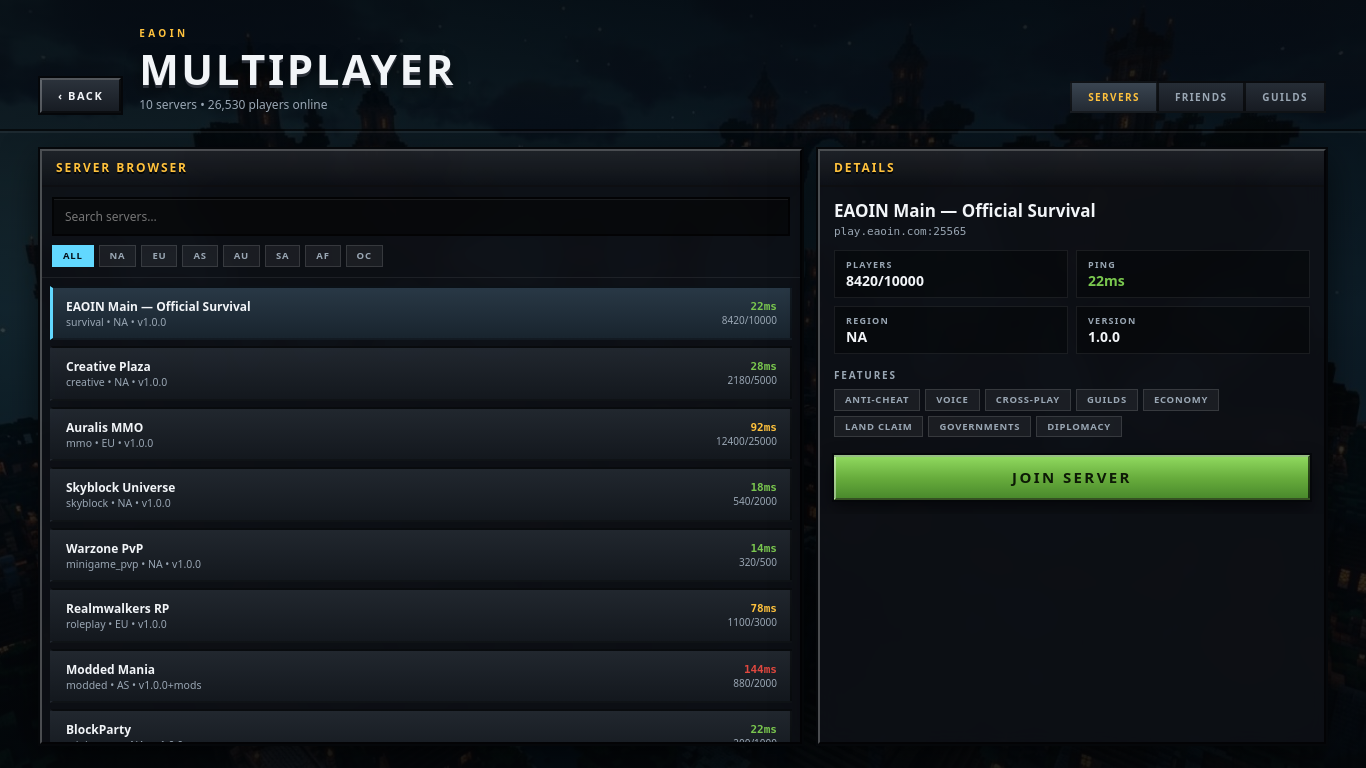
MultiplayerScreen › filters servers by search text
In the field with class "ui-input": (421, 216) [52, 197, 790, 236], type "zzzz-no-such-server"
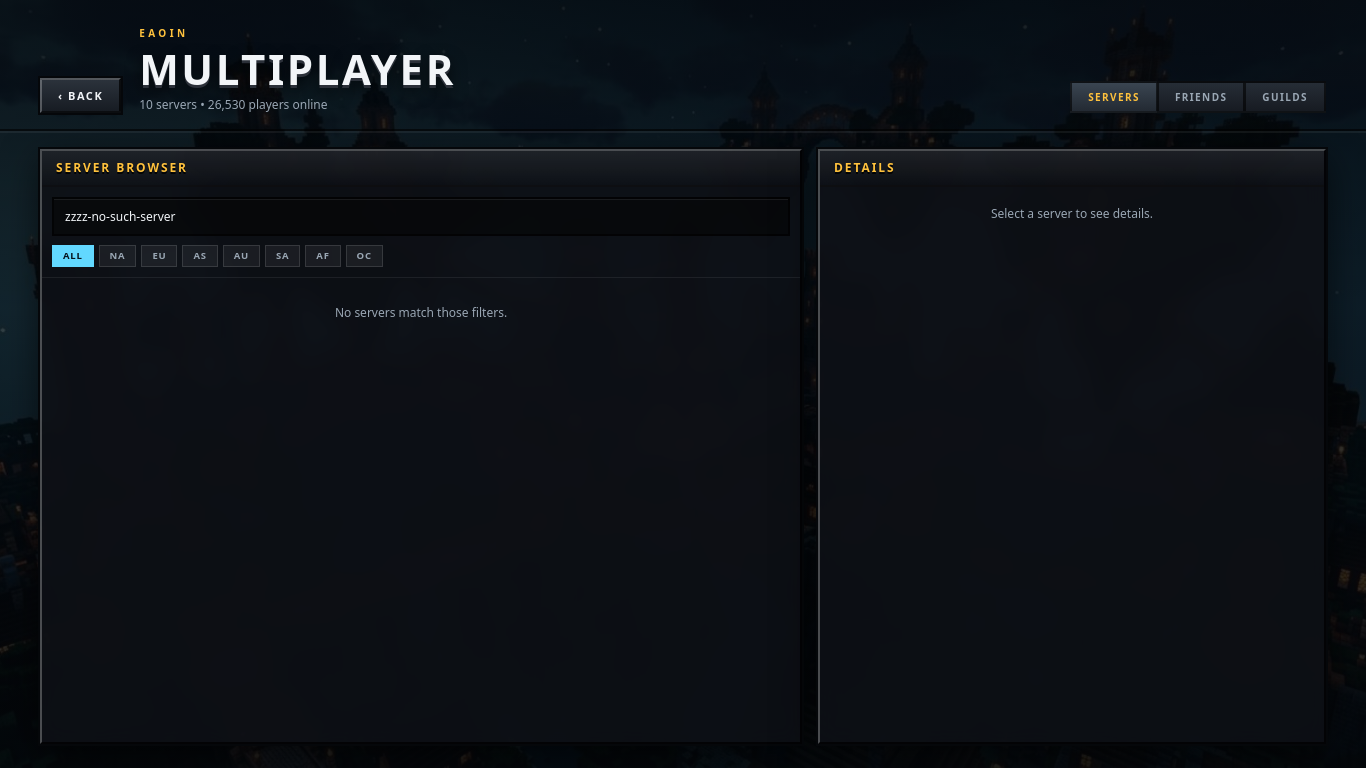
Now no buttons with class "row-card" are shown
Now the text "No servers match" is shown, box [335, 304, 507, 320]
